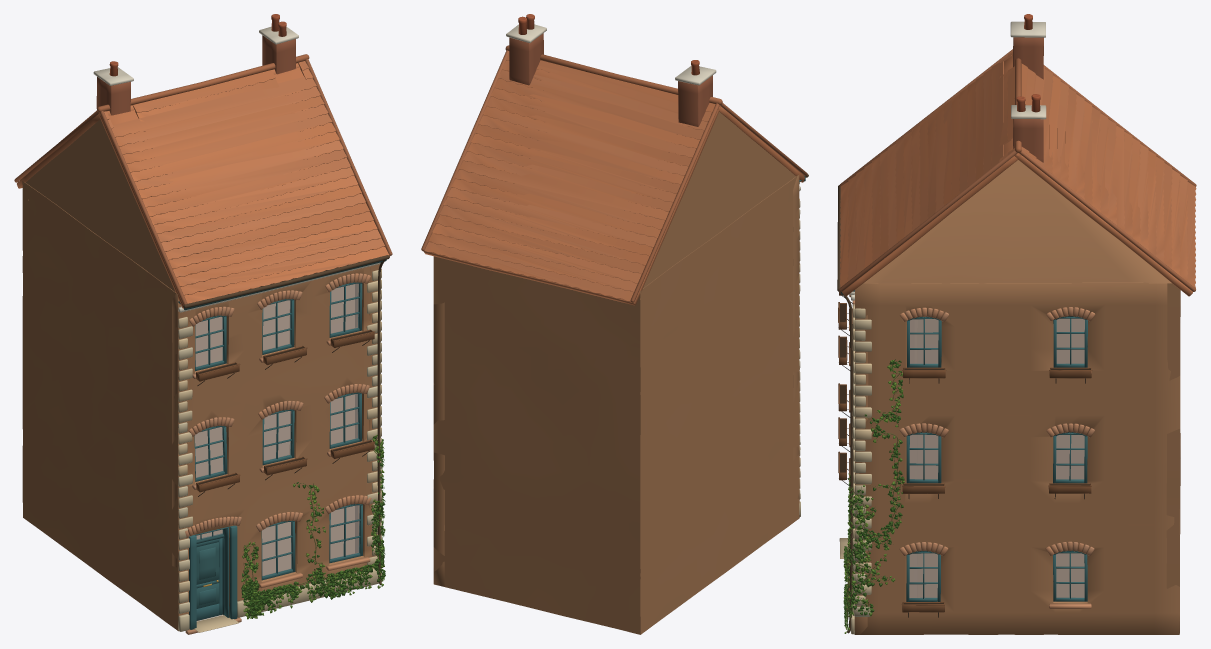
Rendered from StraightEnd_Outer3.glb.
3 views of the same model, side by side, from view 1: azimuth 30°, elevation 25°; view 2: azimuth 150°, elevation 25°; view 3: azimuth 270°, elevation 25° (orthographic). The views are drawn at different scales.
Visible parts, largest first — view 1: Sammel Ziegel, Sammel Stein, Sammel Lack, Sammel Putz innen, Glas, Sammel Putz, Sammel Pflanze, Sammel Holz, Sammel Metall; view 2: Sammel Ziegel, Sammel Stein, Sammel Putz; view 3: Sammel Ziegel, Sammel Stein, Sammel Putz innen, Sammel Putz, Glas, Sammel Lack, Sammel Pflanze, Sammel Holz, Sammel Metall.
Part boxes in pixels (x1=…): Sammel Ziegel: x1=22, y1=35, x2=380, y2=631; Sammel Stein: x1=14, y1=54, x2=392, y2=632; Sammel Lack: x1=178, y1=259, x2=386, y2=629; Sammel Putz innen: x1=195, y1=283, x2=358, y2=620; Glas: x1=195, y1=284, x2=359, y2=575; Sammel Putz: x1=93, y1=14, x2=383, y2=634; Sammel Pflanze: x1=241, y1=434, x2=385, y2=619; Sammel Holz: x1=196, y1=329, x2=375, y2=492; Sammel Metall: x1=183, y1=255, x2=389, y2=586; Sammel Ziegel: x1=433, y1=33, x2=799, y2=634; Sammel Stein: x1=421, y1=45, x2=807, y2=516; Sammel Putz: x1=506, y1=14, x2=800, y2=190; Sammel Ziegel: x1=854, y1=37, x2=1180, y2=634; Sammel Stein: x1=839, y1=49, x2=1196, y2=634; Sammel Putz innen: x1=909, y1=318, x2=1084, y2=597; Sammel Putz: x1=839, y1=14, x2=1095, y2=632; Glas: x1=909, y1=319, x2=1084, y2=597; Sammel Lack: x1=841, y1=290, x2=1087, y2=601; Sammel Pflanze: x1=843, y1=360, x2=904, y2=633; Sammel Holz: x1=838, y1=292, x2=1092, y2=612; Sammel Metall: x1=837, y1=185, x2=1085, y2=633.
Size of the model in its own units: 6.49 by 14.5 by 8.84.
